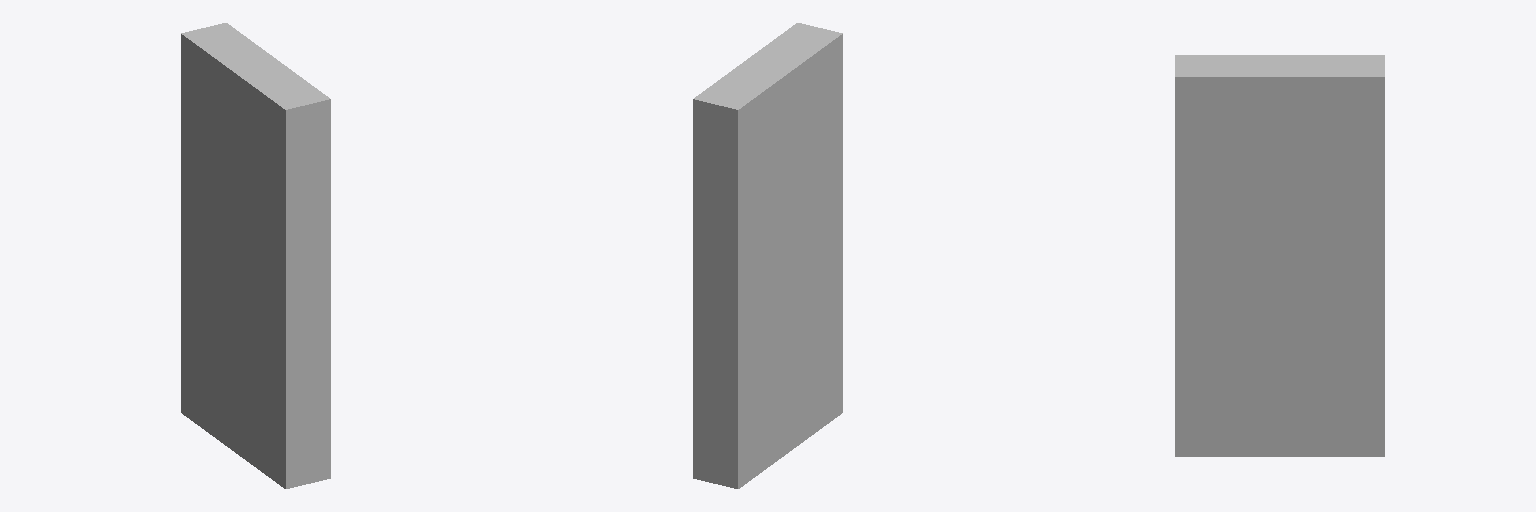
File: Block_1x4x8.obj
3 renders of one model, left to right at view 1: azimuth 30°, elevation 25°; view 2: azimuth 150°, elevation 25°; view 3: azimuth 270°, elevation 25°, orthographic.
Parts seen in each view (by area): view 1: Block_1x4x8_Cube.151; view 2: Block_1x4x8_Cube.151; view 3: Block_1x4x8_Cube.151.
Boxes of the visible parts, x1=… form: Block_1x4x8_Cube.151: x1=181, y1=23, x2=330, y2=488; Block_1x4x8_Cube.151: x1=693, y1=23, x2=842, y2=488; Block_1x4x8_Cube.151: x1=1175, y1=55, x2=1384, y2=456.
Size of the model in its own units: 1 by 8 by 4.